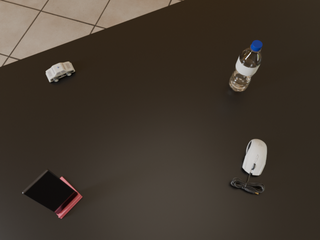bottle: (229, 40, 262, 92)
mouse: (243, 139, 267, 176)
phone: (22, 169, 78, 214)
toy_car: (46, 62, 75, 82)
